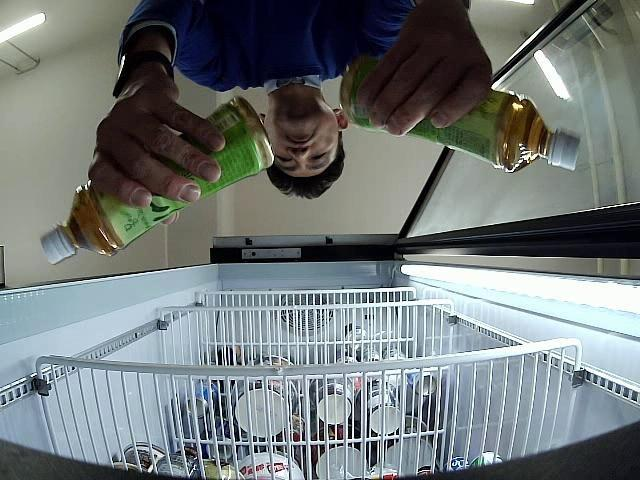19_17cha: (41, 95, 273, 266), (341, 53, 580, 169)
